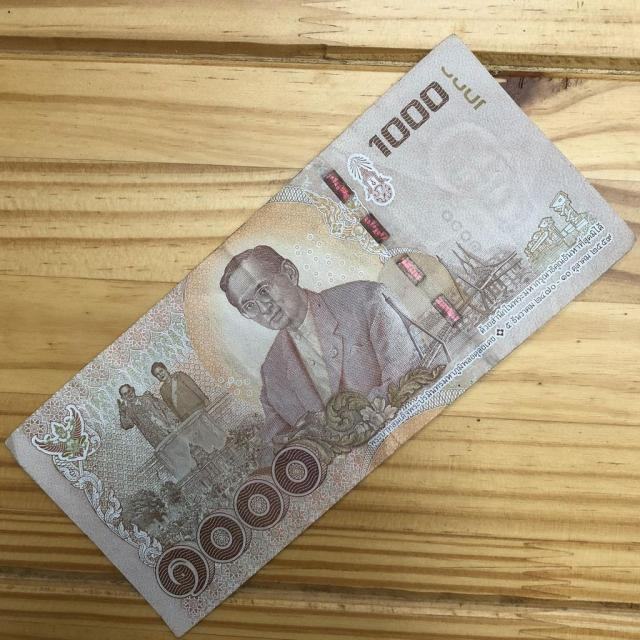THAI1000: (8, 34, 636, 639)
